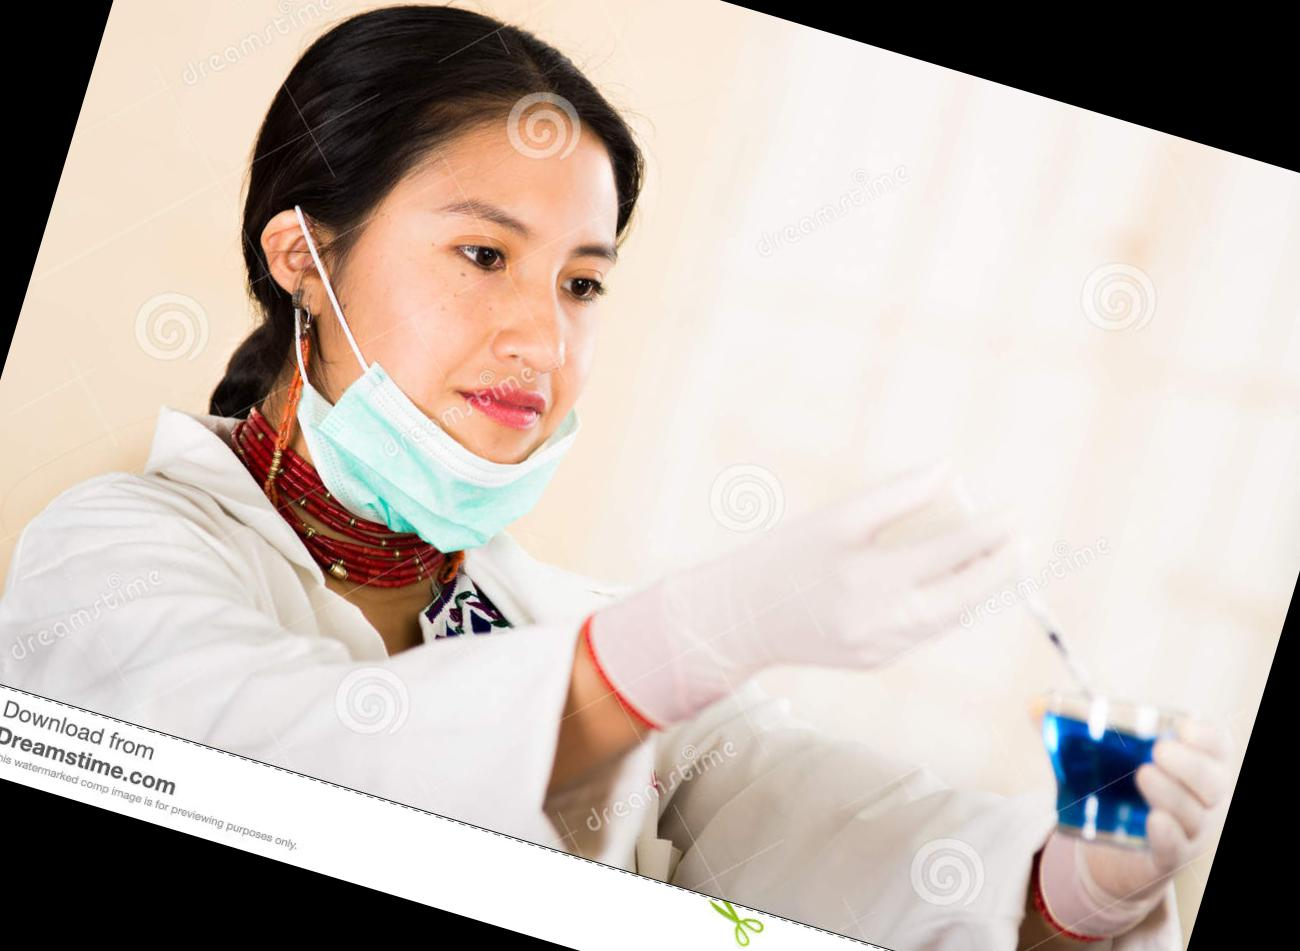mask_weared_incorrect: (332, 173, 643, 553)
